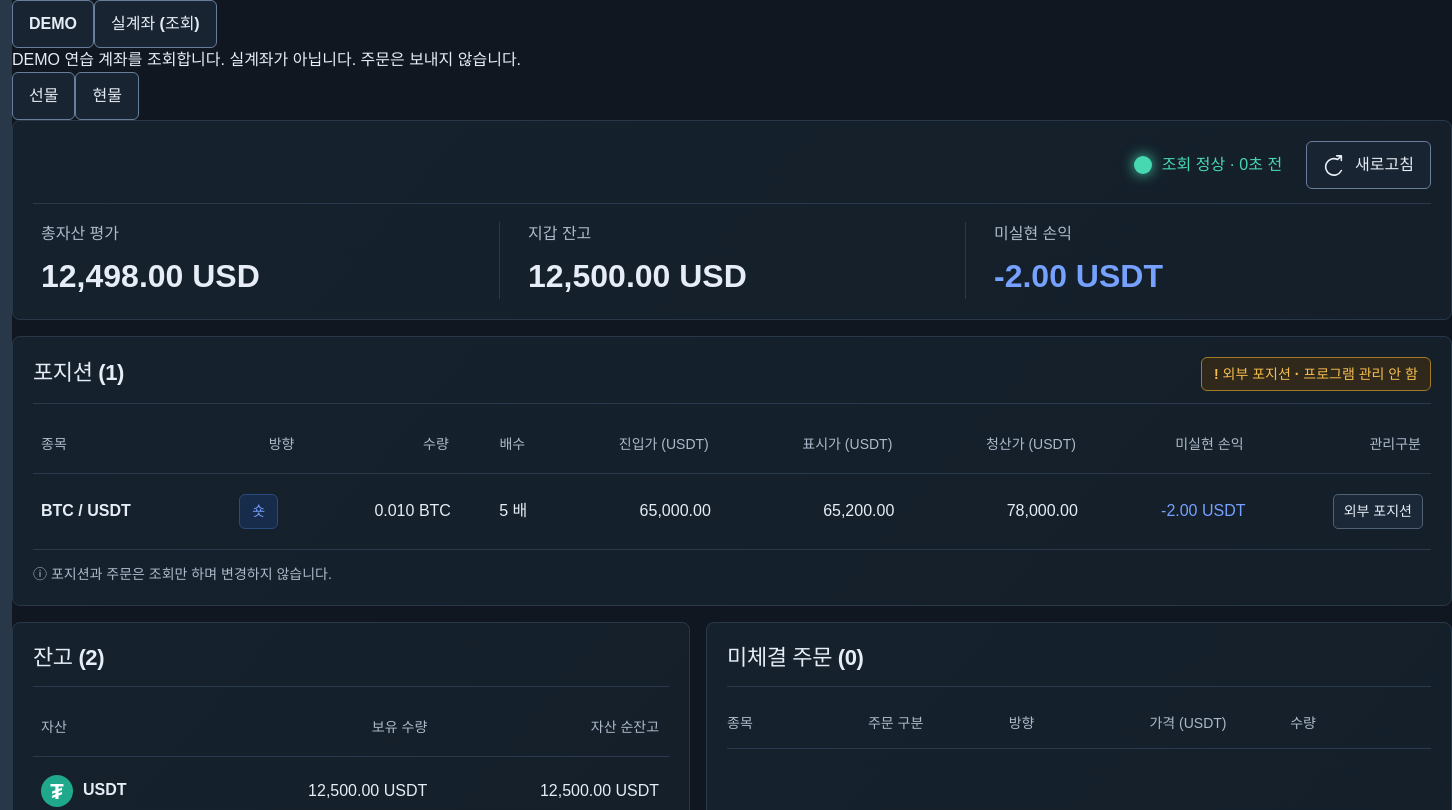
it: keeps the original spot qty basis for BTCUSDT/baseCoin without appending a guessed coin
What coordinates should you click on to do the following:
click the button "현물"
I would click on:
 (107, 96)
Its box is left=76, top=72, right=139, bottom=120.
(page scrolled)
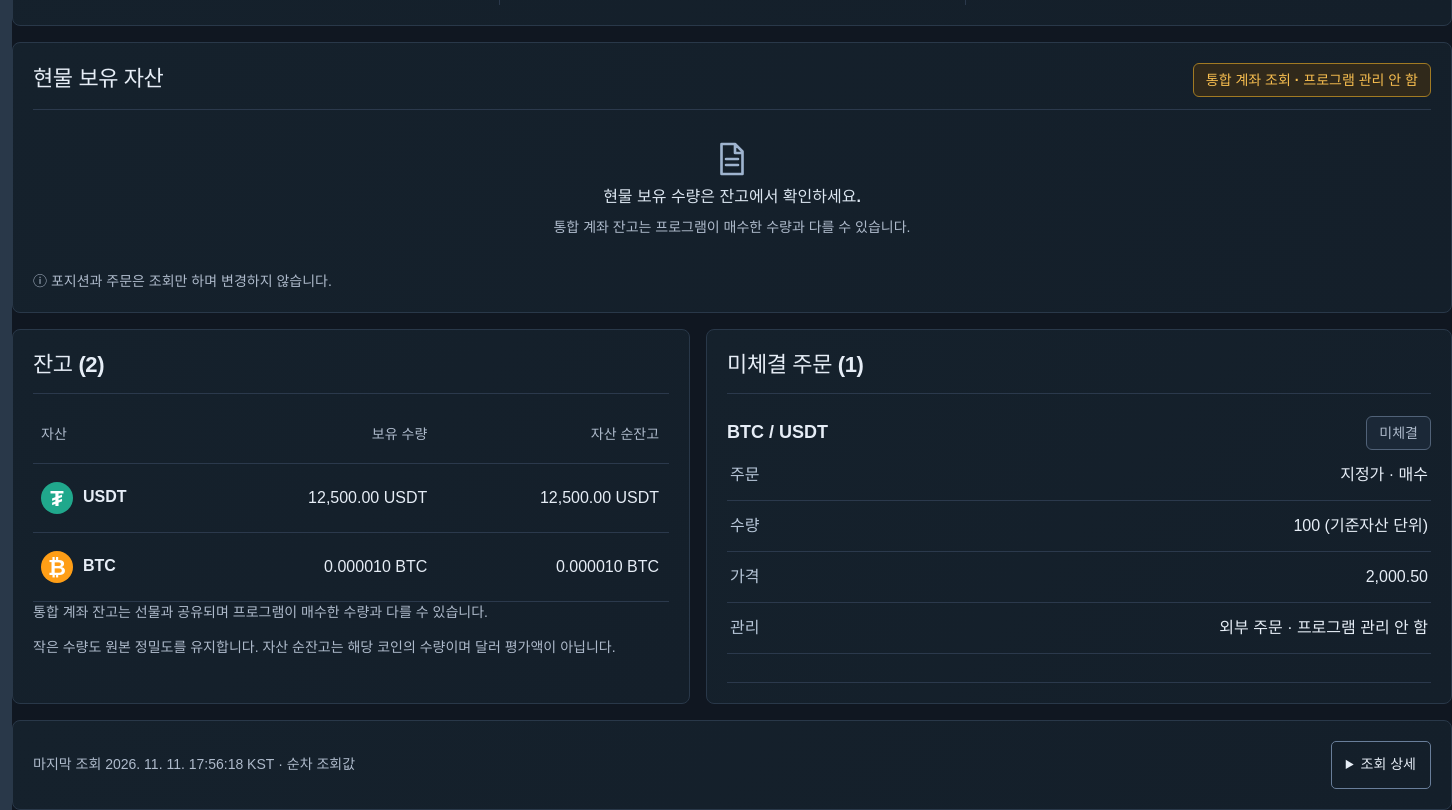
Expected: the text "100 (기준자산 단위)" is shown, left=1293, top=514, right=1428, bottom=538
